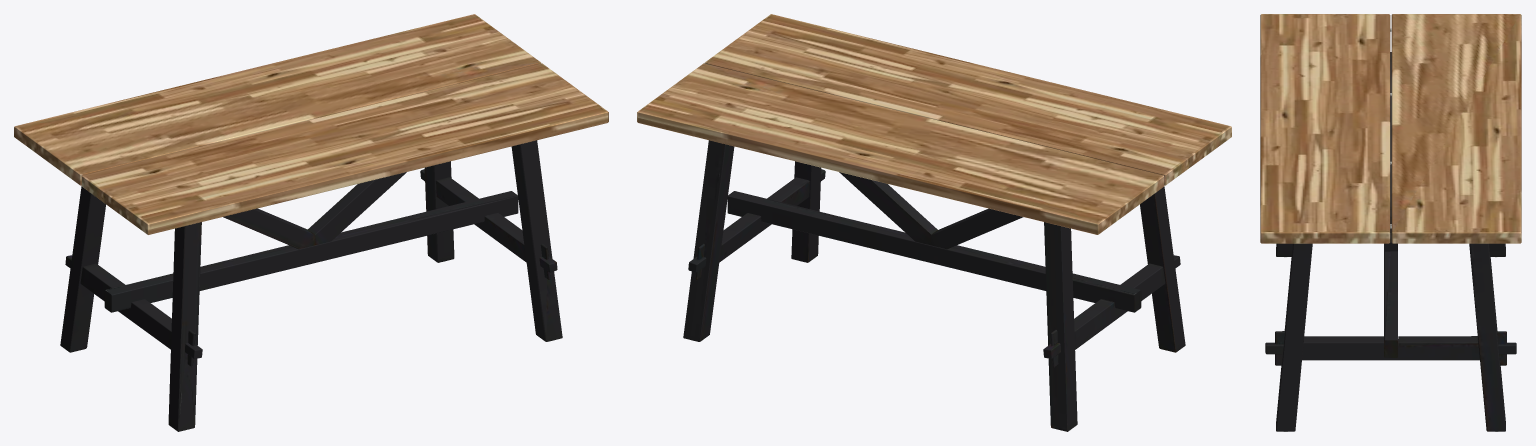
3 views of the same model, side by side, from view 1: azimuth 30°, elevation 25°; view 2: azimuth 150°, elevation 25°; view 3: azimuth 270°, elevation 25° (orthographic). The views are drawn at different scales.
Visible parts, largest first — view 1: ASY_ART_00452643_S01_NV01; view 2: ASY_ART_00452643_S01_NV01; view 3: ASY_ART_00452643_S01_NV01.
Boxes of the visible parts, box(x1,y1,x2,y2) form: ASY_ART_00452643_S01_NV01: box(14, 14, 608, 431); ASY_ART_00452643_S01_NV01: box(637, 14, 1231, 431); ASY_ART_00452643_S01_NV01: box(1260, 14, 1521, 431).
Bounding box in the file's own units: 1.6 × 0.7433 × 0.8052.
1 material, 1 textured.
